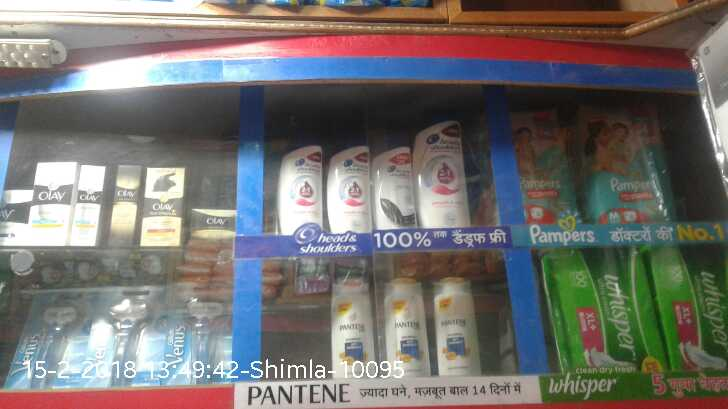venus: (14, 285, 98, 387), (98, 285, 164, 385), (169, 282, 233, 382)
